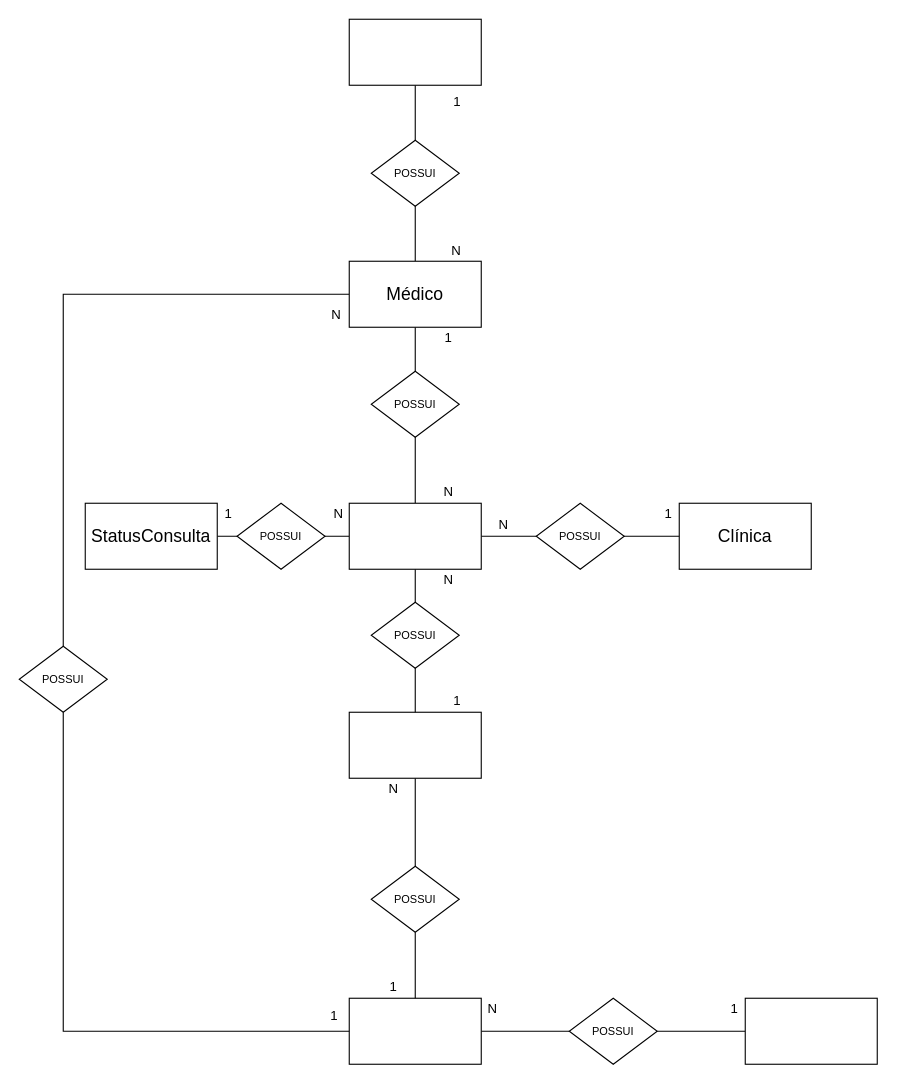
This 897x1084 diagram has some shape labels left out. Each missing label, with the box of its shape:
AreaSaúde: (348, 18, 481, 85)
Consulta: (348, 502, 481, 569)
ProntuarioPaciente: (348, 711, 481, 778)
TipoUsuario: (744, 997, 877, 1064)
Usuario: (348, 997, 481, 1064)
